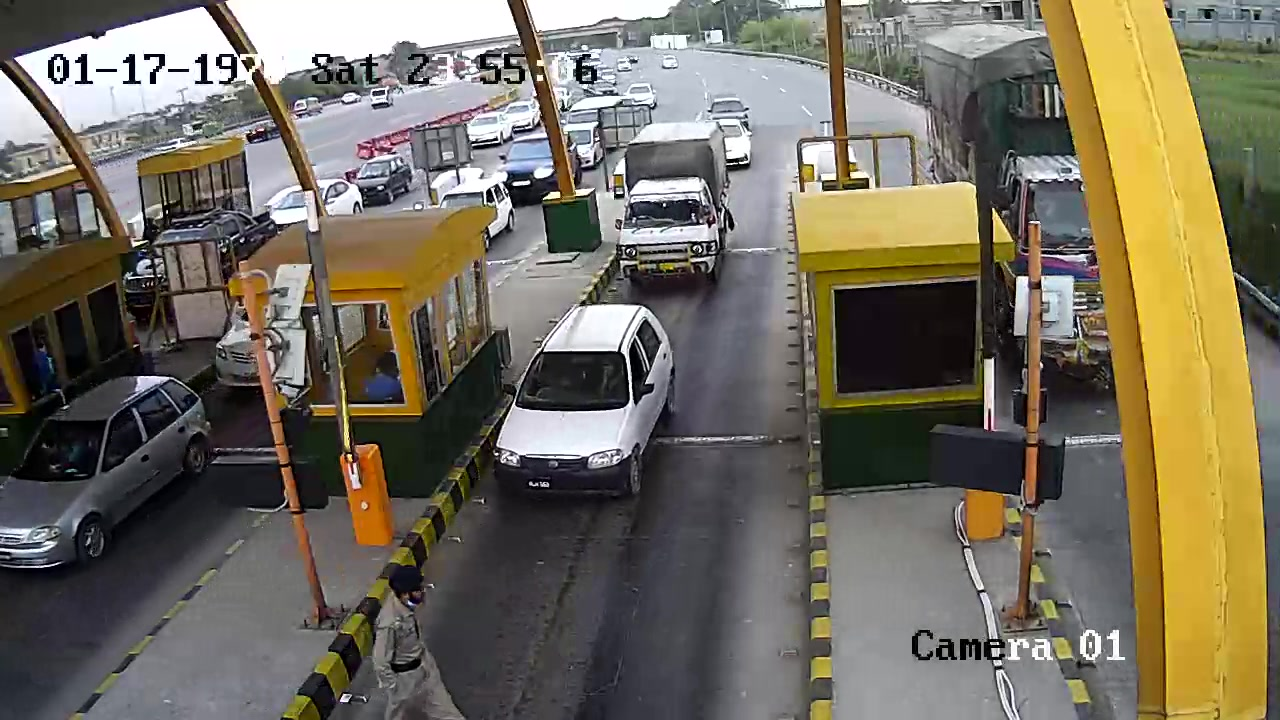F1: (481, 301, 676, 520)
